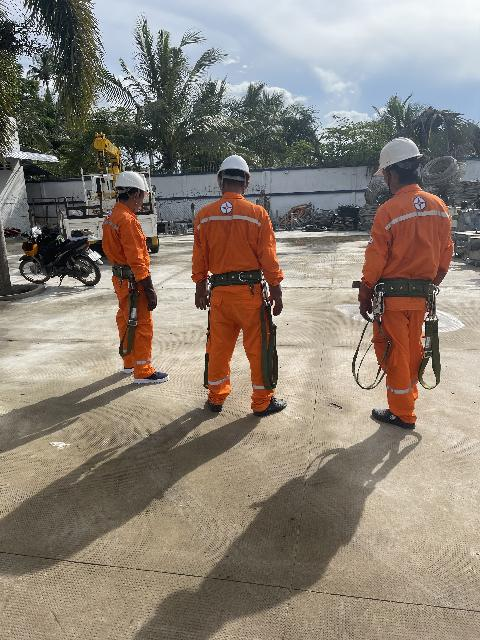gloves: (132, 271, 169, 313), (352, 275, 384, 320), (260, 277, 292, 317), (186, 275, 216, 314)
harness: (379, 263, 444, 307), (196, 256, 277, 289), (100, 257, 147, 286)
helmet: (373, 135, 428, 176), (211, 150, 261, 185), (111, 166, 149, 200)
shoes: (368, 398, 421, 433), (244, 392, 292, 417), (133, 365, 176, 386), (203, 390, 223, 416)
